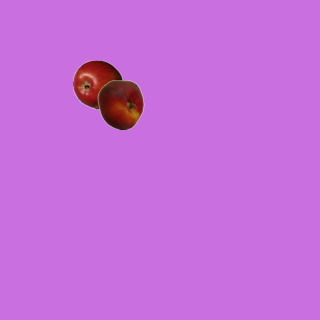Apple Braeburn: (72, 59, 122, 109)
Nectarine Flat: (95, 79, 145, 129)
